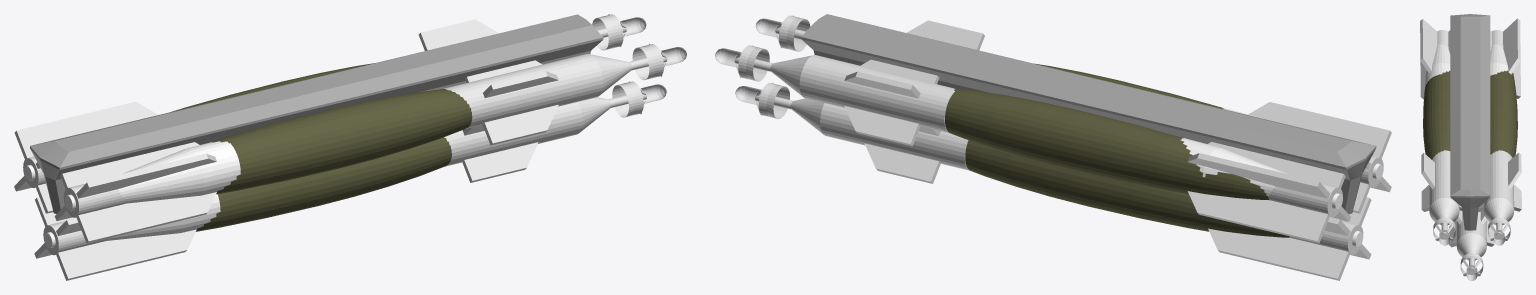
The model's file is f15egbu1271.glb.
3 renders of one model, left to right at view 1: azimuth 30°, elevation 25°; view 2: azimuth 150°, elevation 25°; view 3: azimuth 270°, elevation 25°, orthographic. The views are drawn at different scales.
Parts seen in each view (by area): view 1: 円柱.029, 立方体.022, 円柱.031, 円柱.030; view 2: 円柱.030, 立方体.022, 円柱.031, 円柱.029; view 3: 立方体.022, 円柱.030, 円柱.029, 円柱.031.
Boxes of the visible parts, x1,y1,x2,y2 form: 円柱.029: (54,44,686,243); 立方体.022: (30,14,603,213); 円柱.031: (34,81,666,280); 円柱.030: (14,14,646,213); 円柱.030: (715,45,1350,243); 立方体.022: (801,14,1376,214); 円柱.031: (735,83,1371,280); 円柱.029: (755,15,1391,213); 立方体.022: (1450,14,1490,230); 円柱.030: (1478,18,1521,245); 円柱.029: (1420,19,1462,245); 円柱.031: (1449,210,1494,280).
Size of the model in its own units: 3.73 by 0.699 by 0.7797.
4 materials, 1 textured.
